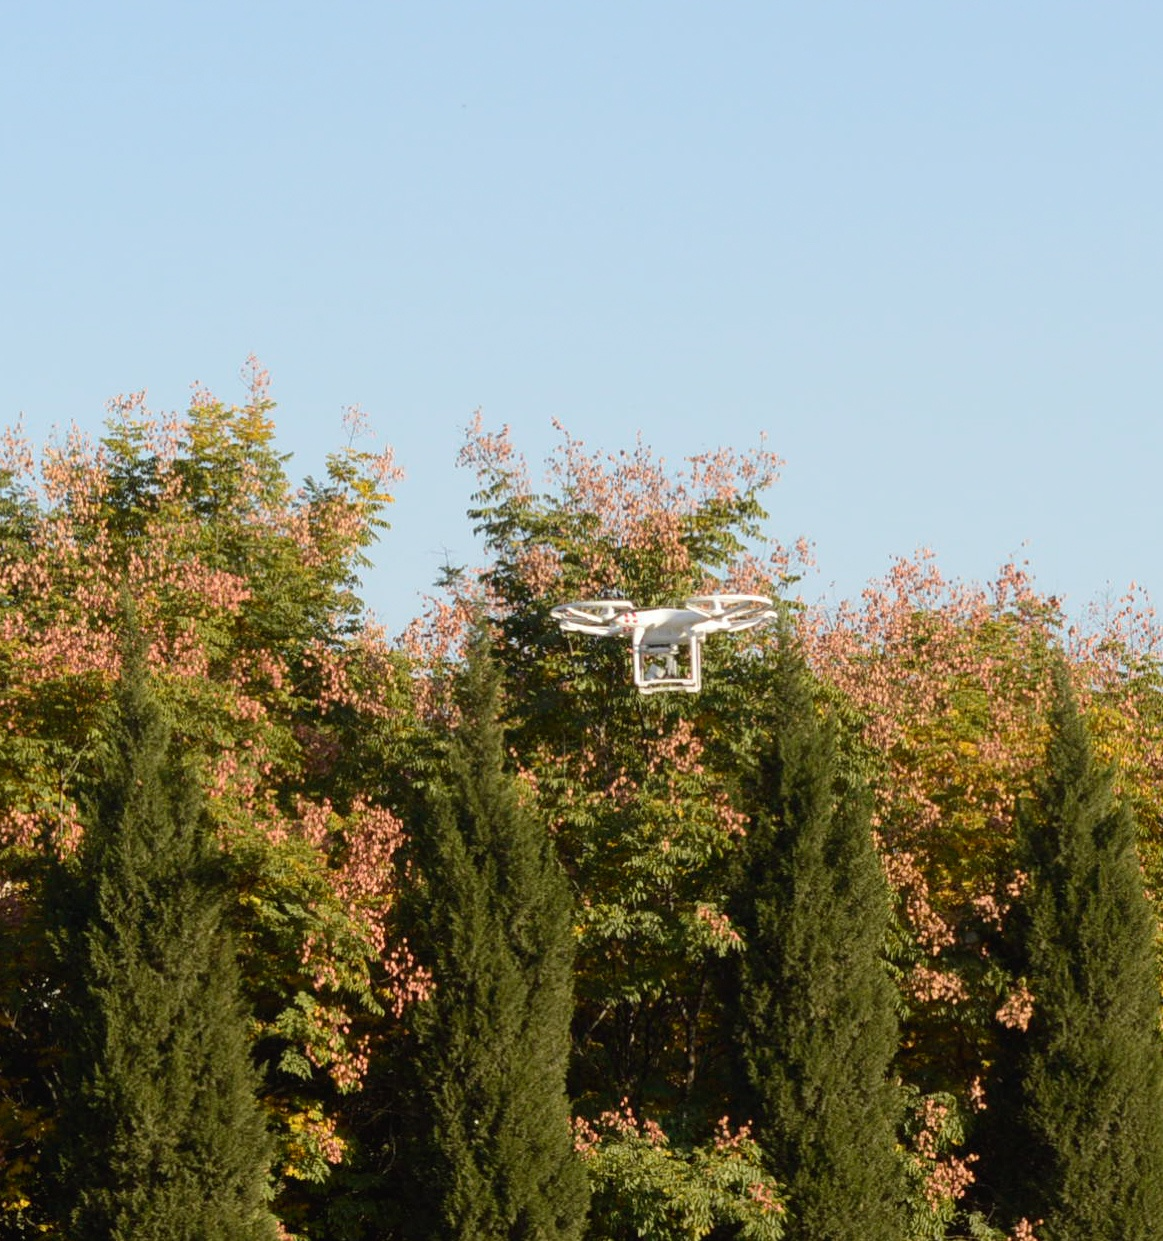DJI: (550, 590, 778, 703)
